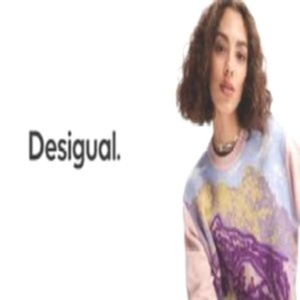desigual: (116, 60, 136, 180)
